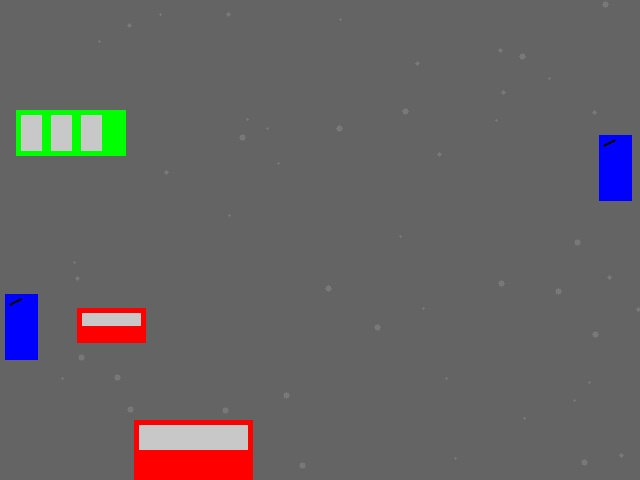bus: (16, 110, 125, 155)
car: (134, 420, 252, 479), (77, 308, 145, 342)
motorcycle: (5, 294, 37, 359), (599, 135, 631, 200)
